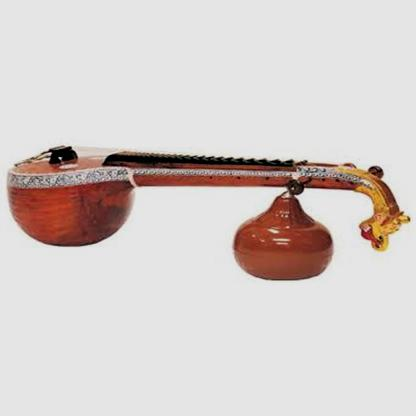Veena: (2, 132, 409, 250)
